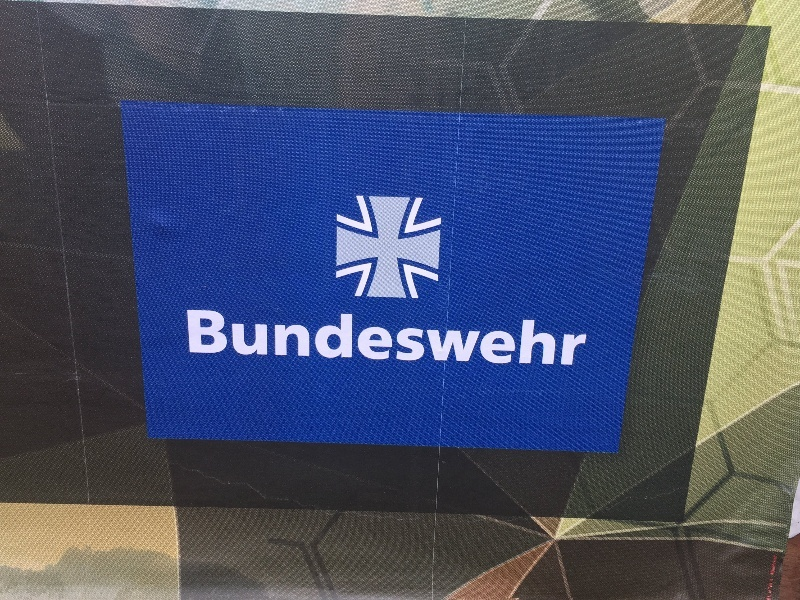text: (577, 308, 593, 368), (193, 308, 208, 368), (209, 308, 224, 368), (225, 308, 240, 368), (241, 308, 256, 368), (257, 308, 272, 368), (273, 308, 288, 368), (289, 308, 304, 368), (305, 308, 320, 368), (321, 308, 336, 368), (337, 308, 352, 368), (353, 308, 368, 368), (369, 308, 384, 368), (385, 308, 400, 368), (401, 308, 416, 368), (417, 308, 432, 368), (433, 308, 448, 368), (449, 308, 464, 368), (465, 308, 480, 368), (481, 308, 496, 368), (497, 308, 512, 368), (513, 308, 528, 368), (529, 308, 544, 368), (545, 308, 560, 368), (561, 308, 576, 368), (186, 308, 192, 368)
